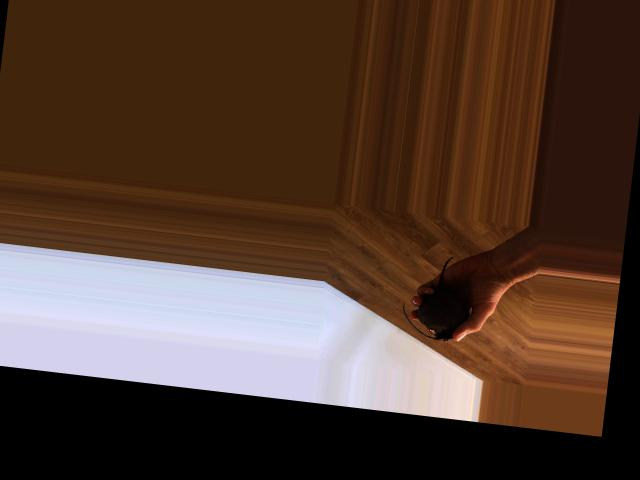beet: (398, 252, 474, 344)
